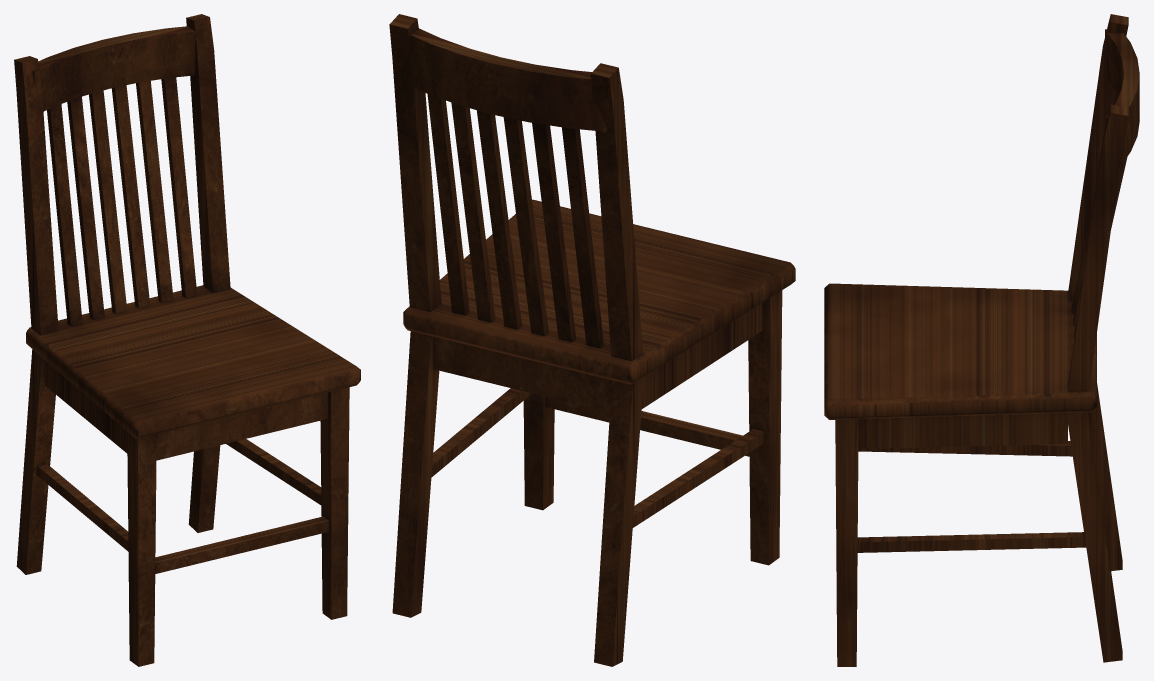
File: Chair_Low.fbx
The picture shows the model from 3 angles, left to right: view 1: azimuth 30°, elevation 25°; view 2: azimuth 150°, elevation 25°; view 3: azimuth 270°, elevation 25°; orthographic projection. The views are drawn at different scales.
Parts seen in each view (by area): view 1: Chair_Old_Low; view 2: Chair_Old_Low; view 3: Chair_Old_Low.
Boxes of the visible parts, x1,y1,x2,y2 form: Chair_Old_Low: [14, 14, 360, 666]; Chair_Old_Low: [389, 14, 795, 666]; Chair_Old_Low: [824, 14, 1139, 666].
Size of the model in its own units: 43.88 by 93.47 by 48.6.
